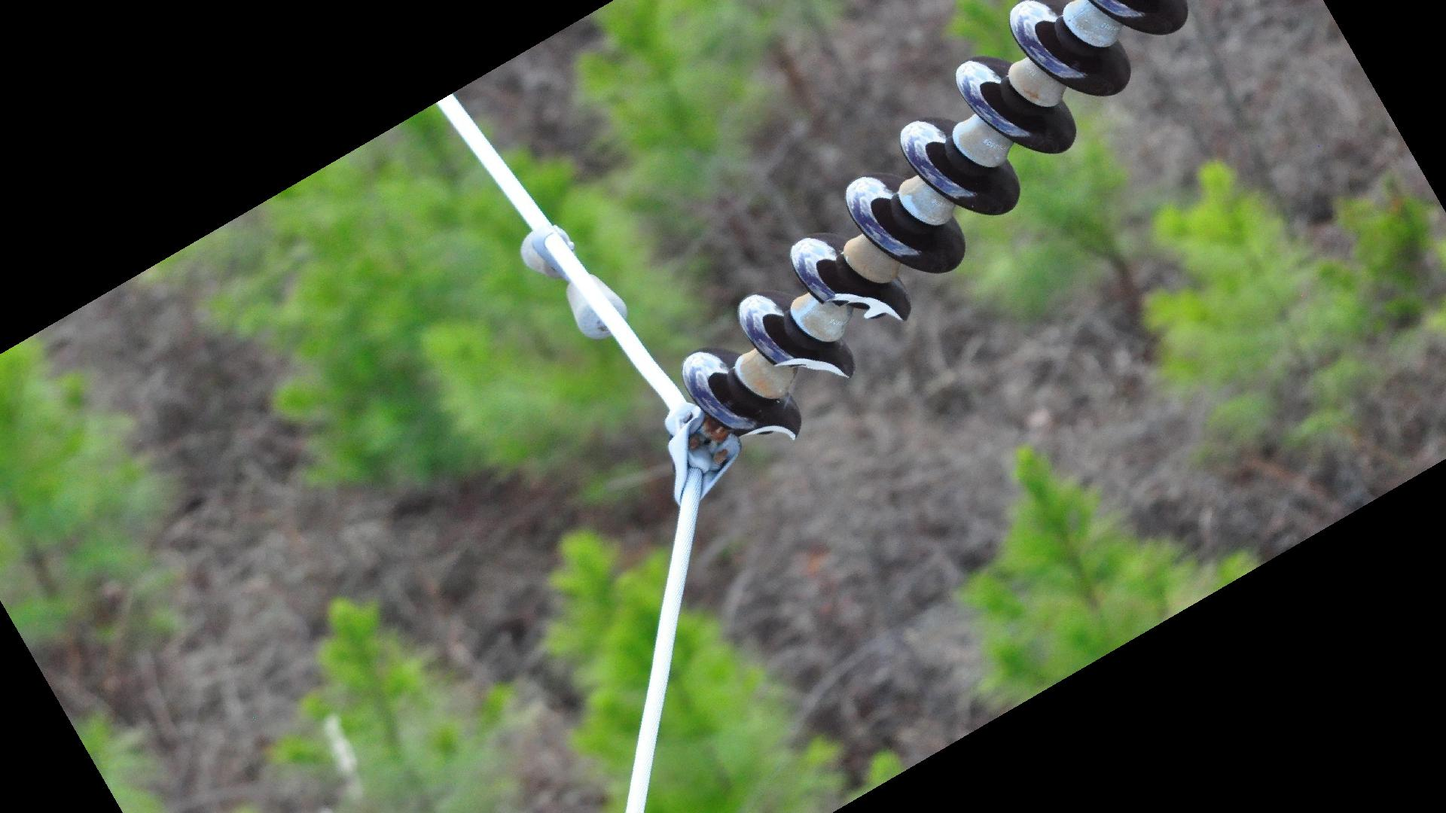insulator: (675, 1, 1193, 451)
insulator_breakage: (817, 287, 912, 325), (767, 353, 857, 384), (734, 422, 802, 444)
